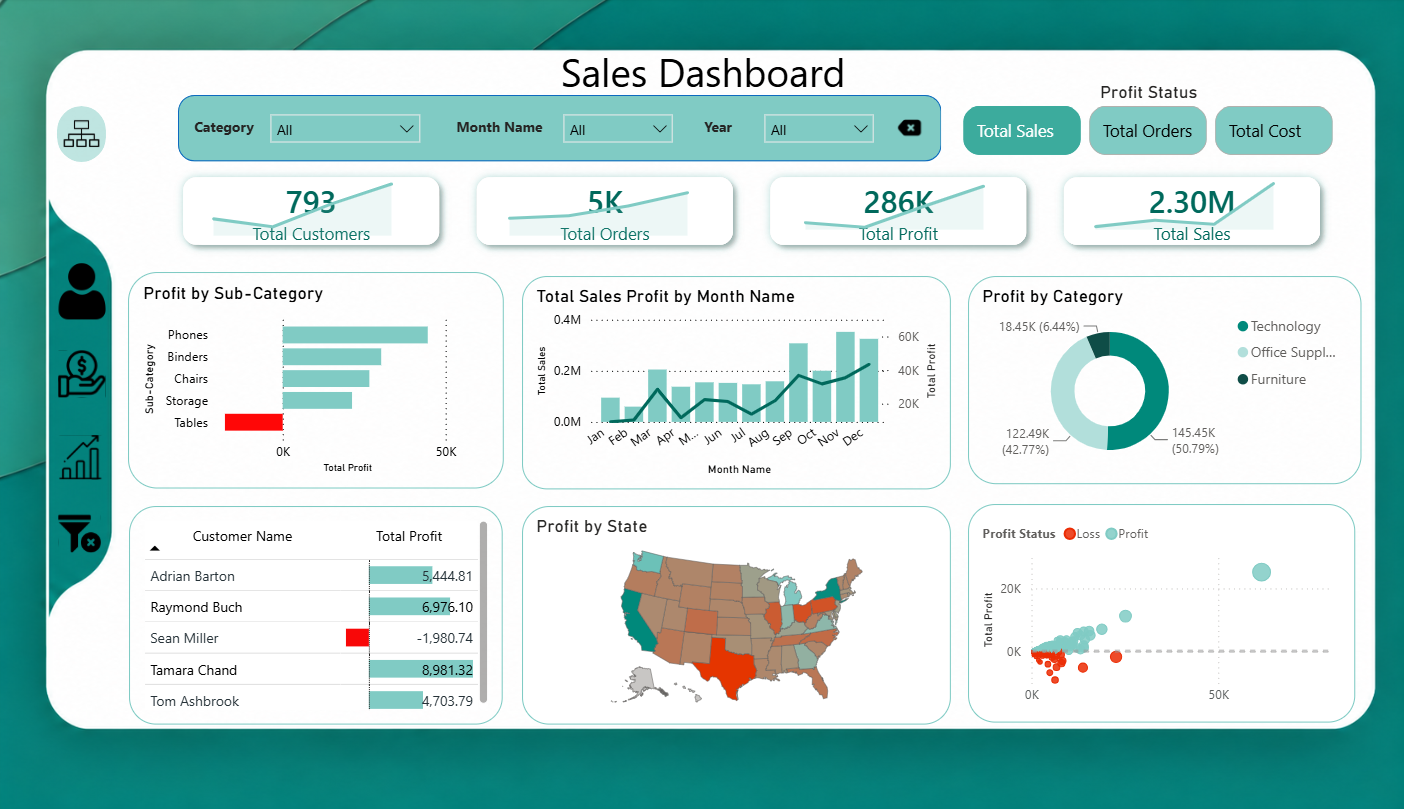

This screenshot's page, from the dashboard's own definition file:
{"tool":"powerbi","page":{"name":"view","canvas":[1280,720],"ordinal":0},"visuals":[{"type":"shape","box":[0,0.9,1280.4,83.3],"z":0},{"type":"shape","box":[15.1,518.7,393.8,186.6],"z":1000},{"type":"shape","box":[409,533.2,392.8,186.7],"z":2000},{"type":"shape","box":[837.1,517.3,430.9,188],"z":3000},{"type":"shape","box":[849,273.4,431,234.5],"z":4000},{"type":"shape","box":[261.2,271.8,574.1,235.3],"z":5000},{"type":"shape","box":[963.8,139.2,289.1,112.6],"z":6000},{"type":"shape","box":[648.2,140.1,304.1,111.7],"z":7000},{"type":"shape","box":[323.2,139.7,314.3,111.7],"z":8000},{"type":"shape","box":[0,137.2,314.2,111.1],"z":9000},{"type":"cardVisual","fields":{"Data":["Measuress.Total Sales"]},"box":[64.7,146.3,196.8,95.8],"z":10000},{"type":"cardVisual","fields":{"Data":["Measuress.Total Orders"]},"box":[696.1,146.3,188.9,102],"z":11000},{"type":"cardVisual","fields":{"Data":["Measuress.Total Profit"]},"box":[376.8,145.4,196,103.7],"z":12000},{"type":"cardVisual","fields":{"Data":["Measuress.Total Customers"]},"box":[1003.7,141,209.3,100.2],"z":13000},{"type":"lineClusteredColumnComboChart","fields":{"Y":["Measuress.Total Sales"],"Y2":["Measuress.Total Profit"],"Category":["DimDate.Month Name"]},"box":[865,294.3,403.1,192.5],"z":14000},{"type":"tableEx","fields":{"Values":["Measuress.Total Profit","Measuress.Total Sales","FactSales.Customer Name"]},"box":[869.8,520.1,393.1,186.5],"z":15000},{"type":"clusteredBarChart","fields":{"Category":["FactSales.Sub-Category"],"Y":["Measuress.Total Sales"]},"box":[23.2,529.6,376.2,167.4],"z":18000},{"type":"shape","box":[0,87.8,1280.4,39],"z":20000},{"type":"actionButton","box":[39.3,356.1,181.6,40.3],"z":21000},{"type":"actionButton","box":[39.3,408.5,181.6,40.3],"z":22000},{"type":"decompositionTreeVisual","fields":{"Analyze":["Measuress.Total Profit"],"ExplainBy":["FactSales.State"]},"box":[278.4,281.1,538.2,205.7],"z":23000},{"type":"textbox","box":[441.6,0.9,487.7,77.1],"z":24000},{"type":"slicer","fields":{"Values":["Orders.Category"]},"box":[626,88.7,164.9,38.1],"z":25000},{"type":"textbox","box":[557.5,91.2,79.6,30.2],"z":26000},{"type":"slicer","fields":{"Values":["Orders.Category"]},"box":[864.5,87.8,118.8,38.1],"z":27000},{"type":"textbox","box":[793.4,91.2,79.6,30.2],"z":28000},{"type":"slicer","fields":{"Values":["Orders.Category"]},"box":[1066.7,86.9,164.9,53.2],"z":29000},{"type":"textbox","box":[1003.7,91.2,48,30.2],"z":30000},{"type":"cardVisual","fields":{"Data":["Measuress.Total Orders"]},"box":[44.5,144.3,216.9,97.8],"z":31000}]}

Visuals, with their boxes in screenshot pixels (x1, y1, x2, y2), scaled from the page's 1280x720 canvas onto the 1404x809 screenshot:
shape: 0,1,1403,95
shape: 17,583,449,792
shape: 449,599,879,808
shape: 918,581,1391,792
shape: 931,307,1403,571
shape: 287,305,916,570
shape: 1057,156,1374,283
shape: 711,157,1045,283
shape: 355,157,699,282
shape: 0,154,345,279
cardVisual - Measuress.Total Sales: 71,164,287,272
cardVisual - Measuress.Total Orders: 764,164,971,279
cardVisual - Measuress.Total Profit: 413,163,628,280
cardVisual - Measuress.Total Customers: 1101,158,1331,271
lineClusteredColumnComboChart - Measuress.Total Sales x Measuress.Total Profit: 949,331,1391,547
tableEx - Measuress.Total Profit x Measuress.Total Sales: 954,584,1385,794
clusteredBarChart - FactSales.Sub-Category x Measuress.Total Sales: 25,595,438,783
shape: 0,99,1403,142
actionButton: 43,400,242,445
actionButton: 43,459,242,504
decompositionTreeVisual - Measuress.Total Profit x FactSales.State: 305,316,896,547
textbox: 484,1,1019,88
slicer - Orders.Category: 687,100,868,142
textbox: 612,102,699,136
slicer - Orders.Category: 948,99,1079,141
textbox: 870,102,958,136
slicer - Orders.Category: 1170,98,1351,157
textbox: 1101,102,1154,136
cardVisual - Measuress.Total Orders: 49,162,287,272
